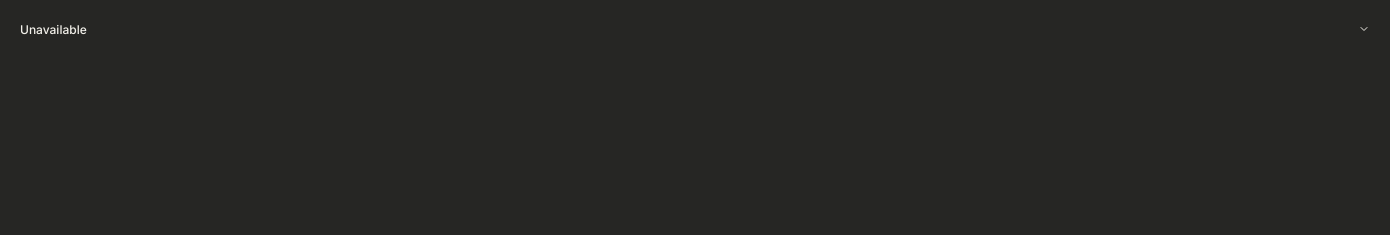
Dropdown keyboard use › searches grouped choices and skips unavailable options during keyboard selection
Click the button with aria-label "Level" at (53, 29), box [12, 12, 1378, 46]
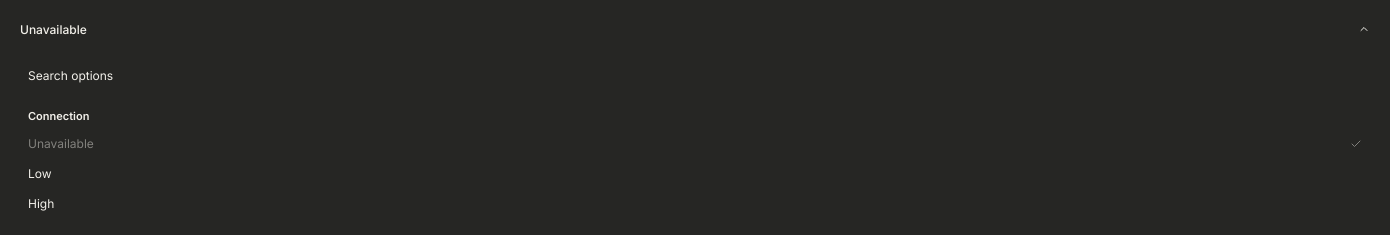
Check: the element "Connection" is shown, box [20, 100, 1370, 218]
Check: the option "Unavailable" is disabled, box [20, 128, 1370, 158]
Press ArrowDown in the search field labelled "Search options", box [20, 58, 1370, 92]
Press h in the option "Low", box [20, 158, 1370, 188]
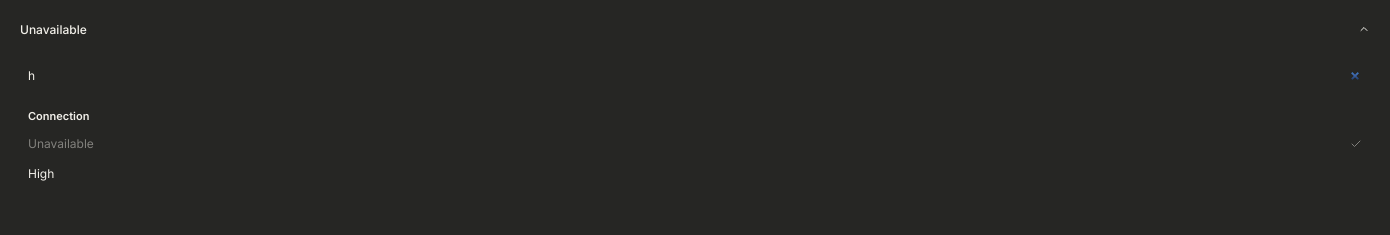
Check: the search field named "Search options" holds "h"
Check: the option "Low" is gone
Press Enter in the search field named "Search options", box [20, 58, 1370, 92]
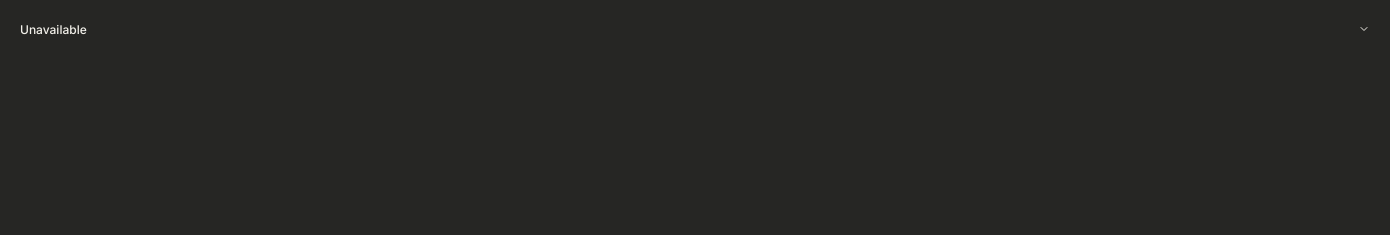
Check: the list is gone
